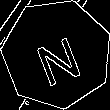N_N: (29, 23, 85, 85)
